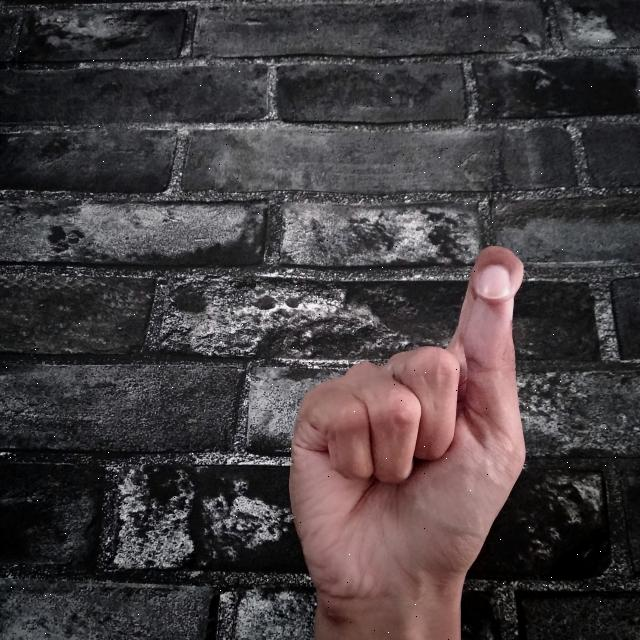T: (286, 241, 528, 640)
